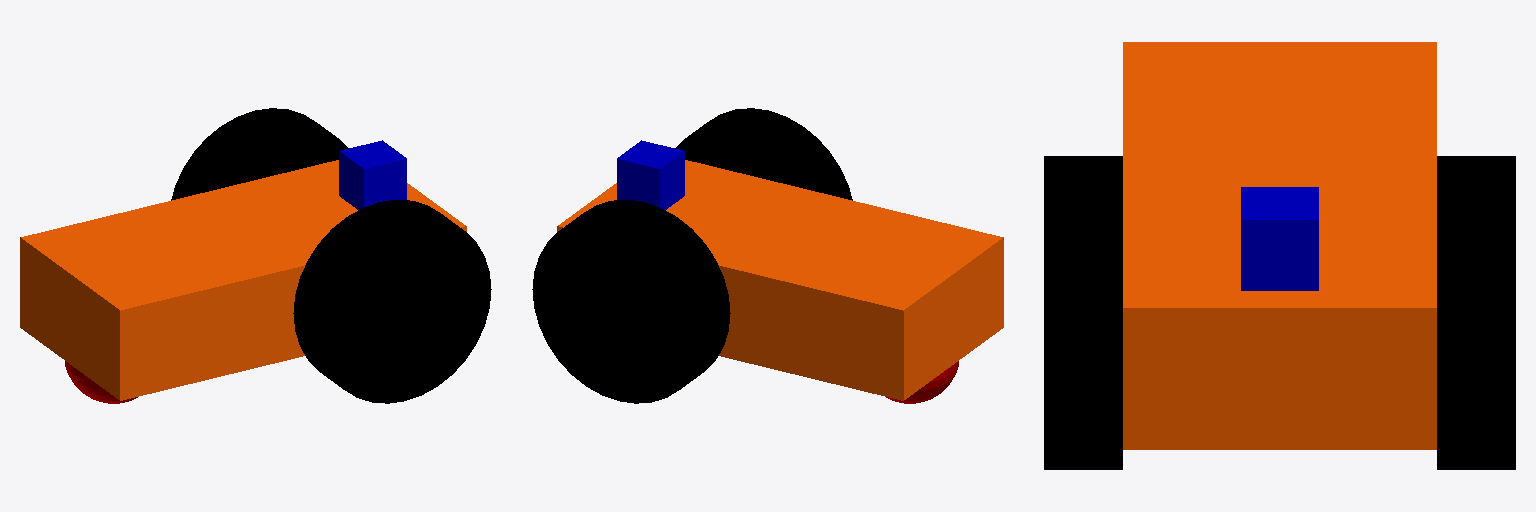
The robot description file, URDF, robot "mybot":
<?xml version="1.0" ?>
<!-- =================================================================================== -->
<!-- |    This document was autogenerated by xacro from simple.urdf.xacro              | -->
<!-- |    EDITING THIS FILE BY HAND IS NOT RECOMMENDED                                 | -->
<!-- =================================================================================== -->
<robot name="mybot" xmlns:xacro="http://www.ros.org/wiki/xacro">
  <gazebo>
    <plugin filename="libgazebo_ros_control.so" name="gazebo_ros_control">
      <robotNamespace>/mybot</robotNamespace>
    </plugin>
  </gazebo>
  <gazebo>
    <plugin filename="libgazebo_ros_diff_drive.so" name="differential_drive_controller">
      <alwaysOn>true</alwaysOn>
      <updateRate>100</updateRate>
      <leftJoint>left_wheel_hinge</leftJoint>
      <rightJoint>right_wheel_hinge</rightJoint>
      <wheelSeparation>0.25</wheelSeparation>
      <wheelDiameter>0.2</wheelDiameter>
      <torque>20</torque>
      <commandTopic>mybot/cmd_vel</commandTopic>
      <odometryTopic>mybot/odom_diffdrive</odometryTopic>
      <odometryFrame>odom</odometryFrame>
      <robotBaseFrame>footprint</robotBaseFrame>
    </plugin>
  </gazebo>
  <gazebo>
    <plugin filename="libgazebo_ros_p3d.so" name="ground_truth">
      <frameName>map</frameName>
      <bodyName>chassis</bodyName>
      <topicName>mybot/odom</topicName>
      <updateRate>30.0</updateRate>
    </plugin>
  </gazebo>
  <gazebo reference="chassis">
    <material>Gazebo/Orange</material>
  </gazebo>
  <gazebo reference="caster_wheel">
    <mu1>0.0</mu1>
    <mu2>0.0</mu2>
    <material>Gazebo/Red</material>
  </gazebo>
  <gazebo reference="camera">
    <material>Gazebo/Blue</material>
    <sensor name="camera1" type="camera">
      <update_rate>30.0</update_rate>
      <camera name="head">
        <horizontal_fov>1.3962634</horizontal_fov>
        <image>
          <width>800</width>
          <height>800</height>
          <format>R8G8B8</format>
        </image>
        <clip>
          <near>0.02</near>
          <far>300</far>
        </clip>
      </camera>
      <plugin filename="libgazebo_ros_camera.so" name="camera_controller">
        <alwaysOn>true</alwaysOn>
        <updateRate>0.0</updateRate>
        <cameraName>mybot/camera1</cameraName>
        <imageTopicName>image_raw</imageTopicName>
        <cameraInfoTopicName>camera_info</cameraInfoTopicName>
        <frameName>camera_link</frameName>
        <hackBaseline>0.07</hackBaseline>
        <distortionK1>0.0</distortionK1>
        <distortionK2>0.0</distortionK2>
        <distortionK3>0.0</distortionK3>
        <distortionT1>0.0</distortionT1>
        <distortionT2>0.0</distortionT2>
      </plugin>
    </sensor>
  </gazebo>
  <material name="black">
    <color rgba="0.0 0.0 0.0 1.0"/>
  </material>
  <material name="blue">
    <color rgba="0.0 0.0 0.8 1.0"/>
  </material>
  <material name="green">
    <color rgba="0.0 0.8 0.0 1.0"/>
  </material>
  <material name="grey">
    <color rgba="0.2 0.2 0.2 1.0"/>
  </material>
  <material name="orange">
    <color rgba="1.0 0.423529411765 0.0392156862745 1.0"/>
  </material>
  <material name="brown">
    <color rgba="0.870588235294 0.811764705882 0.764705882353 1.0"/>
  </material>
  <material name="red">
    <color rgba="0.8 0.0 0.0 1.0"/>
  </material>
  <material name="white">
    <color rgba="1.0 1.0 1.0 1.0"/>
  </material>
  <link name="footprint"/>
  <joint name="base_joint" type="fixed">
    <parent link="footprint"/>
    <child link="chassis"/>
  </joint>
  <link name="chassis">
    <collision>
      <origin rpy="0 0 0" xyz="0 0 0.1"/>
      <geometry>
        <box size="0.4 0.2 0.1"/>
      </geometry>
    </collision>
    <visual>
      <origin rpy="0 0 0" xyz="0 0 0.1"/>
      <geometry>
        <box size="0.4 0.2 0.1"/>
      </geometry>
      <material name="orange"/>
    </visual>
    <inertial>
      <origin rpy="0 0 0" xyz="0 0 0.1"/>
      <mass value="50"/>
      <inertia ixx="0.208333333333" ixy="0" ixz="0" iyy="0.708333333333" iyz="0" izz="0.708333333333"/>
    </inertial>
  </link>
  <joint name="fixed" type="fixed">
    <parent link="chassis"/>
    <child link="caster_wheel"/>
  </joint>
  <link name="caster_wheel">
    <collision>
      <origin rpy="0 0 0" xyz="-0.15 0 0.05"/>
      <geometry>
        <sphere radius="0.05"/>
      </geometry>
    </collision>
    <visual>
      <origin rpy="0 0 0" xyz="-0.15 0 0.05"/>
      <geometry>
        <sphere radius="0.05"/>
      </geometry>
      <material name="red"/>
    </visual>
    <inertial>
      <origin rpy="0 0 0" xyz="-0.15 0 0.05"/>
      <mass value="5"/>
      <inertia ixx="0.005" ixy="0" ixz="0" iyy="0.005" iyz="0" izz="0.005"/>
    </inertial>
  </link>
  <link name="left_wheel">
    <collision>
      <origin rpy="0 1.57079632679 1.57079632679" xyz="0 0 0"/>
      <geometry>
        <cylinder length="0.05" radius="0.1"/>
      </geometry>
    </collision>
    <visual>
      <origin rpy="0 1.57079632679 1.57079632679" xyz="0 0 0"/>
      <geometry>
        <cylinder length="0.05" radius="0.1"/>
      </geometry>
      <material name="black"/>
    </visual>
    <inertial>
      <origin rpy="0 1.57079632679 1.57079632679" xyz="0 0 0"/>
      <mass value="5"/>
      <inertia ixx="0.0135416666667" ixy="0" ixz="0" iyy="0.0135416666667" iyz="0" izz="0.025"/>
    </inertial>
  </link>
  <gazebo reference="left_wheel">
    <mu1 value="1.0"/>
    <mu2 value="1.0"/>
    <kp value="10000000.0"/>
    <kd value="1.0"/>
    <fdir1 value="1 0 0"/>
    <material>Gazebo/Black</material>
  </gazebo>
  <joint name="left_wheel_hinge" type="continuous">
    <parent link="chassis"/>
    <child link="left_wheel"/>
    <origin rpy="0 0 0" xyz="0.1 -0.125 0.1"/>
    <axis rpy="0 0 0" xyz="0 1 0"/>
    <limit effort="100" velocity="100"/>
    <joint_properties damping="0.0" friction="0.0"/>
  </joint>
  <transmission name="left_trans">
    <type>transmission_interface/SimpleTransmission</type>
    <joint name="left_wheel_hinge"/>
    <actuator name="leftMotor">
      <hardwareInterface>EffortJointInterface</hardwareInterface>
      <mechanicalReduction>10</mechanicalReduction>
    </actuator>
  </transmission>
  <link name="right_wheel">
    <collision>
      <origin rpy="0 1.57079632679 1.57079632679" xyz="0 0 0"/>
      <geometry>
        <cylinder length="0.05" radius="0.1"/>
      </geometry>
    </collision>
    <visual>
      <origin rpy="0 1.57079632679 1.57079632679" xyz="0 0 0"/>
      <geometry>
        <cylinder length="0.05" radius="0.1"/>
      </geometry>
      <material name="black"/>
    </visual>
    <inertial>
      <origin rpy="0 1.57079632679 1.57079632679" xyz="0 0 0"/>
      <mass value="5"/>
      <inertia ixx="0.0135416666667" ixy="0" ixz="0" iyy="0.0135416666667" iyz="0" izz="0.025"/>
    </inertial>
  </link>
  <gazebo reference="right_wheel">
    <mu1 value="1.0"/>
    <mu2 value="1.0"/>
    <kp value="10000000.0"/>
    <kd value="1.0"/>
    <fdir1 value="1 0 0"/>
    <material>Gazebo/Black</material>
  </gazebo>
  <joint name="right_wheel_hinge" type="continuous">
    <parent link="chassis"/>
    <child link="right_wheel"/>
    <origin rpy="0 0 0" xyz="0.1 0.125 0.1"/>
    <axis rpy="0 0 0" xyz="0 1 0"/>
    <limit effort="100" velocity="100"/>
    <joint_properties damping="0.0" friction="0.0"/>
  </joint>
  <transmission name="right_trans">
    <type>transmission_interface/SimpleTransmission</type>
    <joint name="right_wheel_hinge"/>
    <actuator name="rightMotor">
      <hardwareInterface>EffortJointInterface</hardwareInterface>
      <mechanicalReduction>10</mechanicalReduction>
    </actuator>
  </transmission>
  <joint name="camera_joint" type="fixed">
    <origin rpy="0 0 0" xyz="0.15 0 0.175"/>
    <parent link="chassis"/>
    <child link="camera"/>
  </joint>
  <link name="camera">
    <collision>
      <origin rpy="0 0 0" xyz="0 0 0"/>
      <geometry>
        <box size="0.05 0.05 0.05"/>
      </geometry>
    </collision>
    <visual>
      <origin rpy="0 0 0" xyz="0 0 0"/>
      <geometry>
        <box size="0.05 0.05 0.05"/>
      </geometry>
      <material name="blue"/>
    </visual>
    <inertial>
      <mass value="0.1"/>
      <origin rpy="0 0 0" xyz="0 0 0"/>
      <inertia ixx="4.16666666667e-05" ixy="0" ixz="0" iyy="4.16666666667e-05" iyz="0" izz="4.16666666667e-05"/>
    </inertial>
  </link>
</robot>

--- Facts derived from the render (not from the file) ---
3 views of the same robot in one strip: view 1: azimuth 30°, elevation 25°; view 2: azimuth 150°, elevation 25°; view 3: azimuth 270°, elevation 25° (orthographic).
Robot: mybot — 6 links, 5 joints (2 continuous, 3 fixed); root link footprint; default pose: all joints at 0.
Links seen in each view (by area): view 1: chassis, left_wheel, right_wheel, camera, caster_wheel; view 2: chassis, right_wheel, left_wheel, camera, caster_wheel; view 3: chassis, left_wheel, right_wheel, camera.
Boxes of the visible links, box(x1,y1,x2,y2) form: chassis: box(20, 160, 466, 400); left_wheel: box(293, 200, 491, 403); right_wheel: box(171, 108, 348, 200); camera: box(339, 140, 406, 209); caster_wheel: box(65, 361, 137, 403); chassis: box(557, 160, 1003, 400); right_wheel: box(532, 200, 730, 403); left_wheel: box(675, 108, 852, 200); camera: box(617, 140, 684, 209); caster_wheel: box(886, 361, 958, 403); chassis: box(1123, 42, 1436, 449); left_wheel: box(1044, 156, 1122, 469); right_wheel: box(1437, 156, 1515, 469); camera: box(1241, 187, 1318, 290).
Bounding box of the posed robot: 0.4 × 0.3 × 0.2 m (x, y, z).
Geometry: primitives only (box / cylinder / sphere), no mesh files.